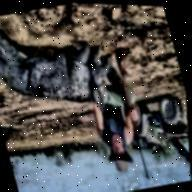boar: (0, 0, 126, 137)
